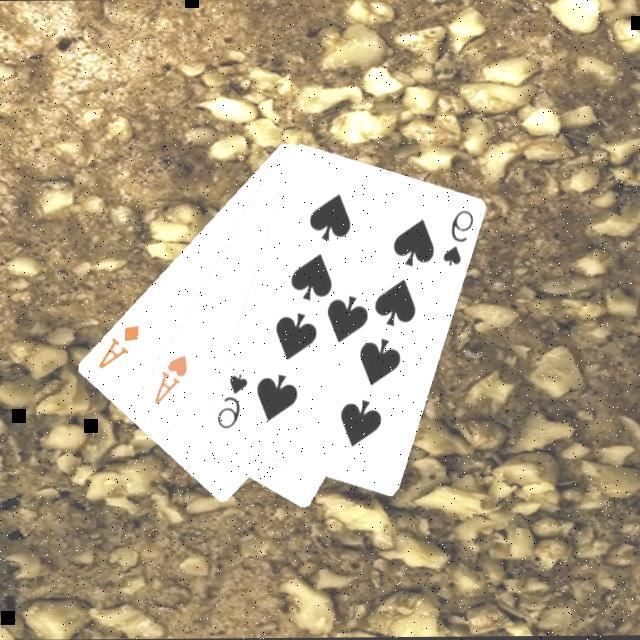9S: (212, 369, 250, 431), (438, 206, 476, 268)
AD: (93, 321, 141, 372)
AH: (148, 350, 190, 406)
